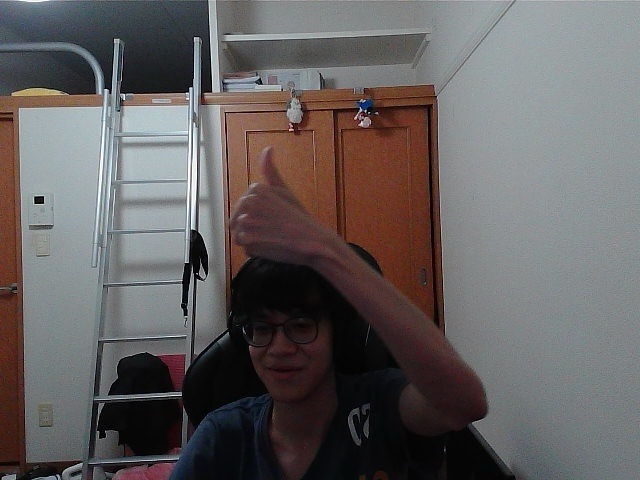thumb_up: (238, 152, 313, 250)
